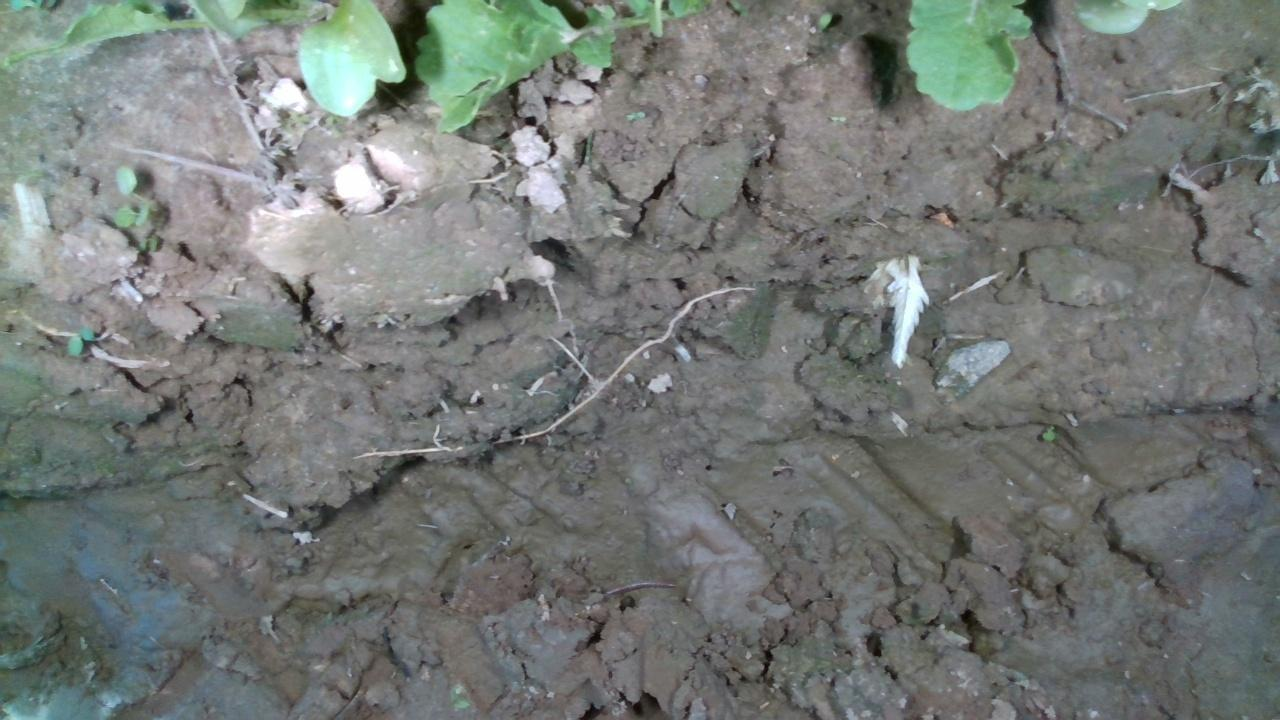weed: (64, 319, 95, 356), (827, 113, 846, 122)
